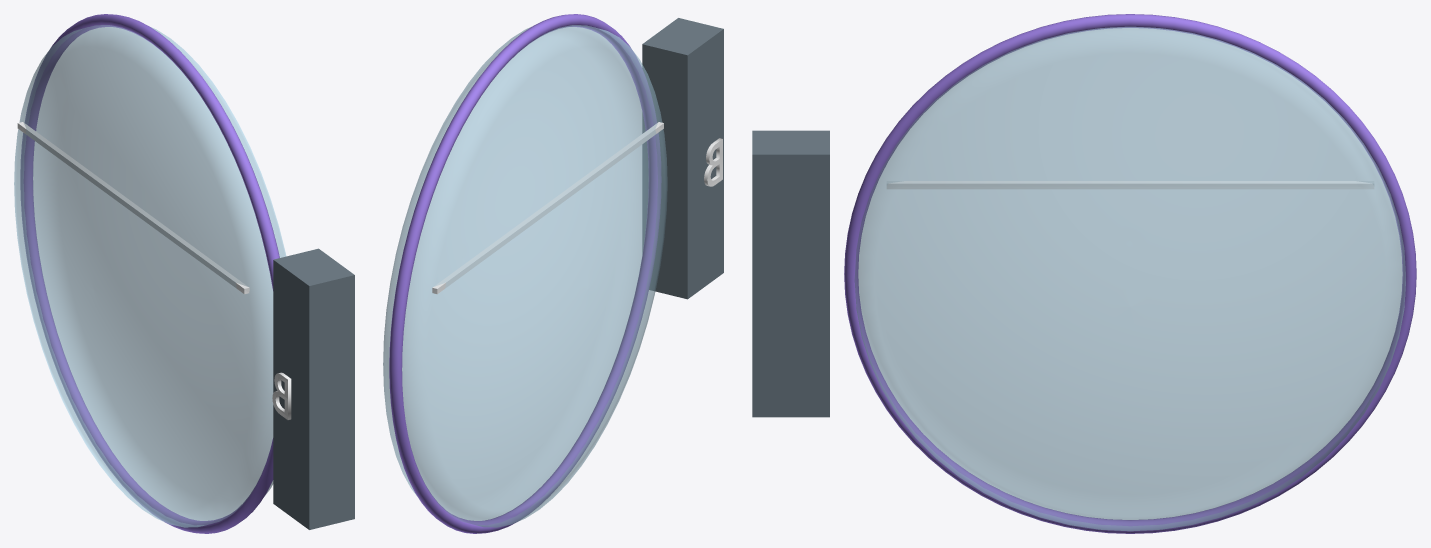
Rendered from sim-eye-b.glb.
The picture shows the model from 3 angles, left to right: view 1: azimuth 30°, elevation 25°; view 2: azimuth 150°, elevation 25°; view 3: azimuth 270°, elevation 25°; orthographic projection. The views are drawn at different scales.
Parts seen in each view (by area): view 1: optical element, insert tab, lens rim, vertical glint, eye label; view 2: optical element, insert tab, lens rim, vertical glint, eye label; view 3: optical element, lens rim, insert tab, vertical glint.
Boxes of the visible parts, x1,y1,x2,y2 form: optical element: (14,25,286,527); insert tab: (273,248,354,529); lens rim: (20,14,279,533); vertical glint: (17,122,249,294); eye label: (272,372,291,419); optical element: (383,25,667,527); insert tab: (642,18,723,299); lens rim: (389,14,661,533); vertical glint: (432,122,663,294); eye label: (704,138,722,186); optical element: (854,27,1405,531); lens rim: (844,14,1416,533); insert tab: (752,130,829,417); vertical glint: (886,181,1374,189).
Size of the model in its own units: 0.44 by 1.62 by 1.88.
